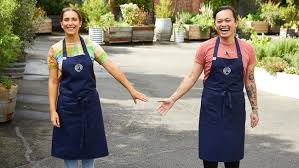Caution: (47, 5, 260, 168)
